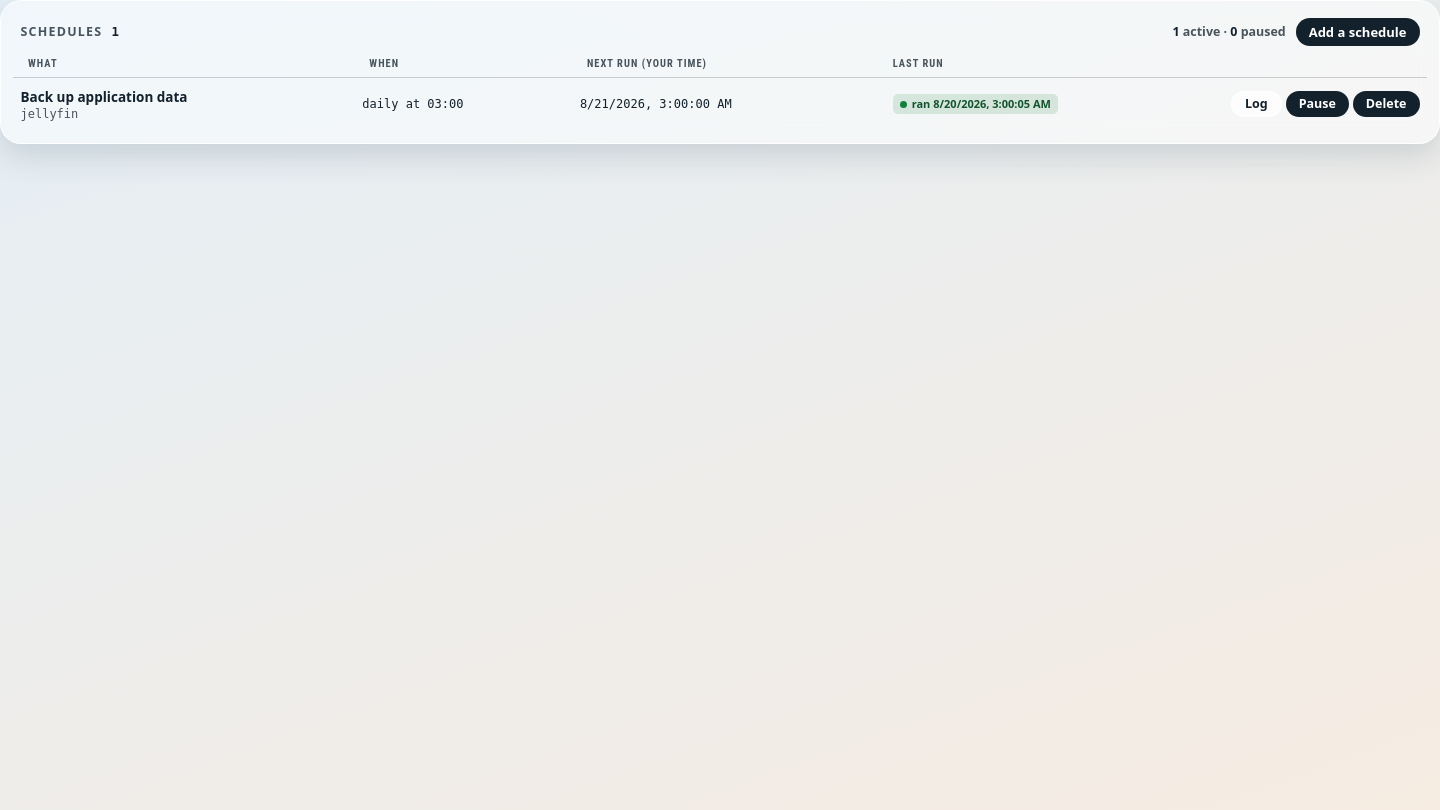
Schedules panel › opens the last run's log in a sheet
This screenshot has width=1440, height=810.
Click the button with aria-label "View log: Back up application data" at (1256, 104), box [1231, 91, 1282, 117]
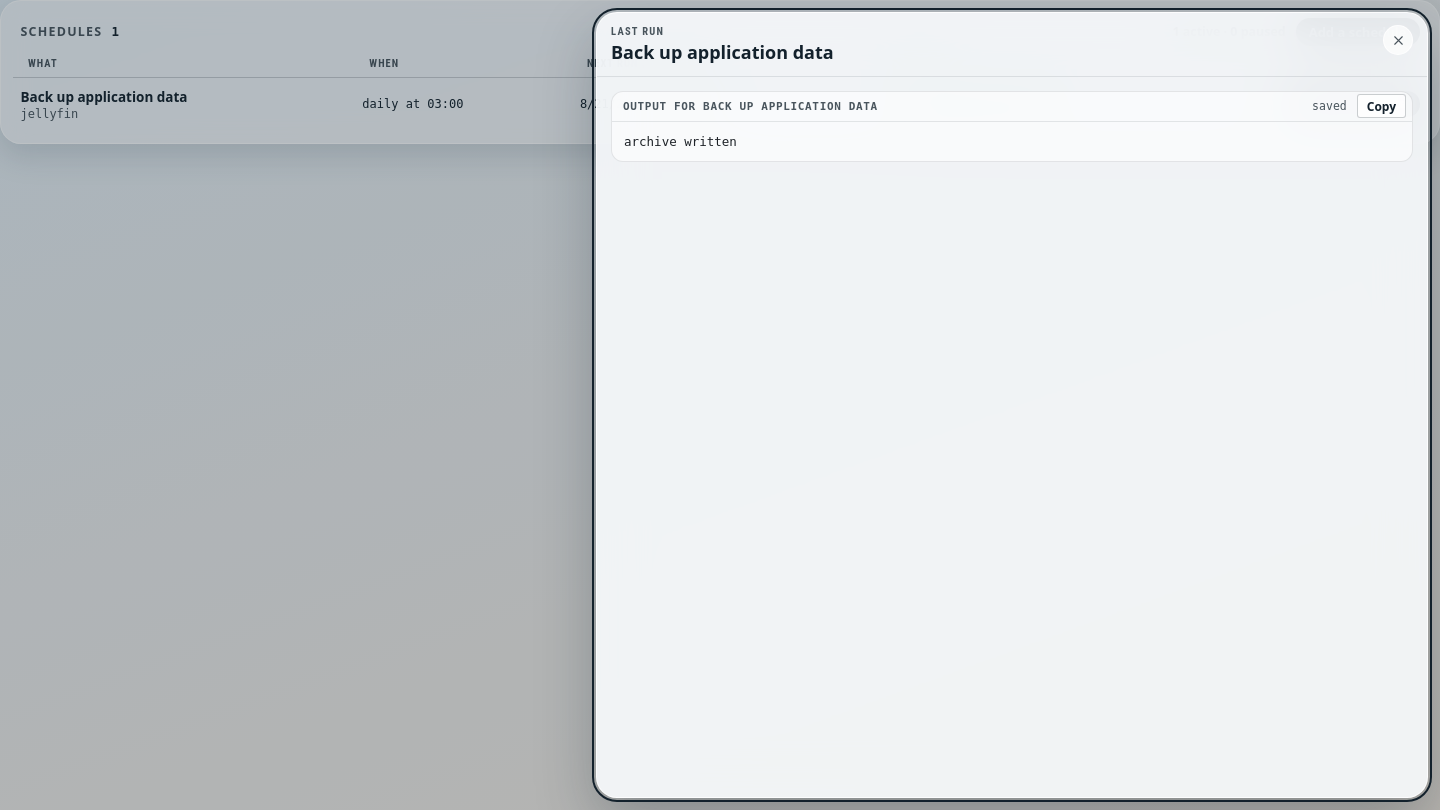
Result: the text "archive written" is shown at [624, 134, 737, 148]
